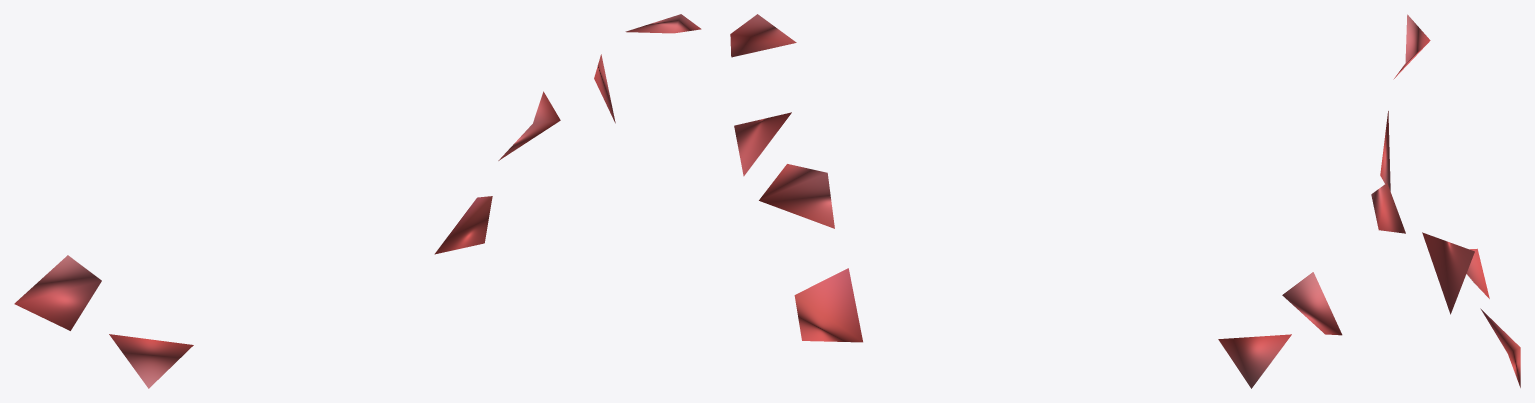
File: mesh_lod_3_9a48bea0-7d19-5717-8785-c5c898e68cb1.glb
3 renders of one model, left to right at view 1: azimuth 30°, elevation 25°; view 2: azimuth 150°, elevation 25°; view 3: azimuth 270°, elevation 25°, orthographic. The views are drawn at different scales.
Visible parts, largest first — view 1: LOD 3_9a48bea0-7d19-5717-8785-c5c898e68cb1; view 2: LOD 3_9a48bea0-7d19-5717-8785-c5c898e68cb1; view 3: LOD 3_9a48bea0-7d19-5717-8785-c5c898e68cb1.
Boxes of the visible parts, x1,y1,x2,y2 form: LOD 3_9a48bea0-7d19-5717-8785-c5c898e68cb1: [14, 14, 701, 388]; LOD 3_9a48bea0-7d19-5717-8785-c5c898e68cb1: [730, 14, 1342, 388]; LOD 3_9a48bea0-7d19-5717-8785-c5c898e68cb1: [1371, 14, 1520, 387].
Bounding box in the file's own units: 13.79 × 5.08 × 2.71.
